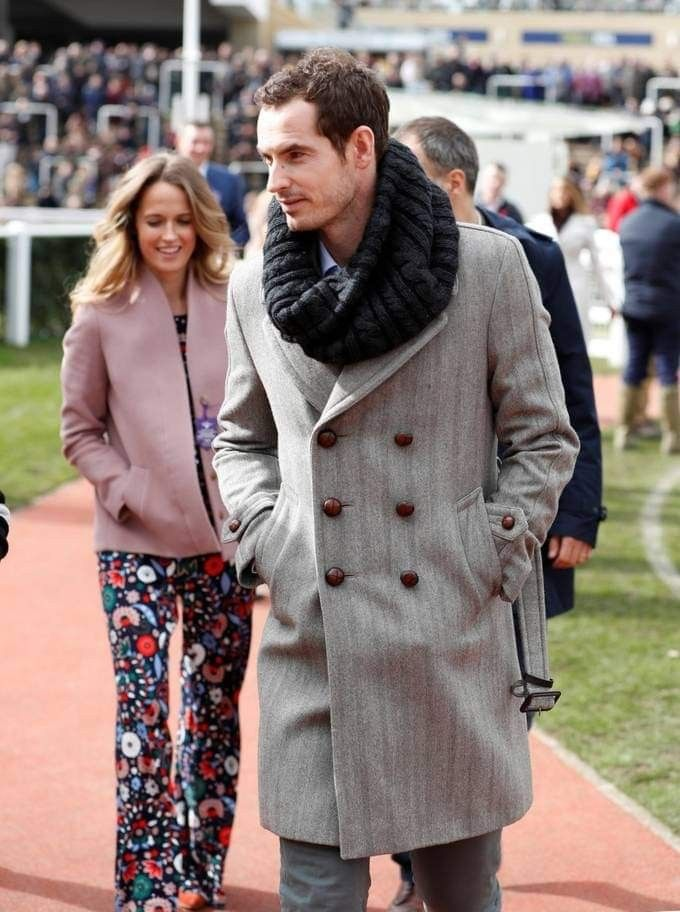Person: (226, 47, 577, 912), (58, 150, 238, 912)
